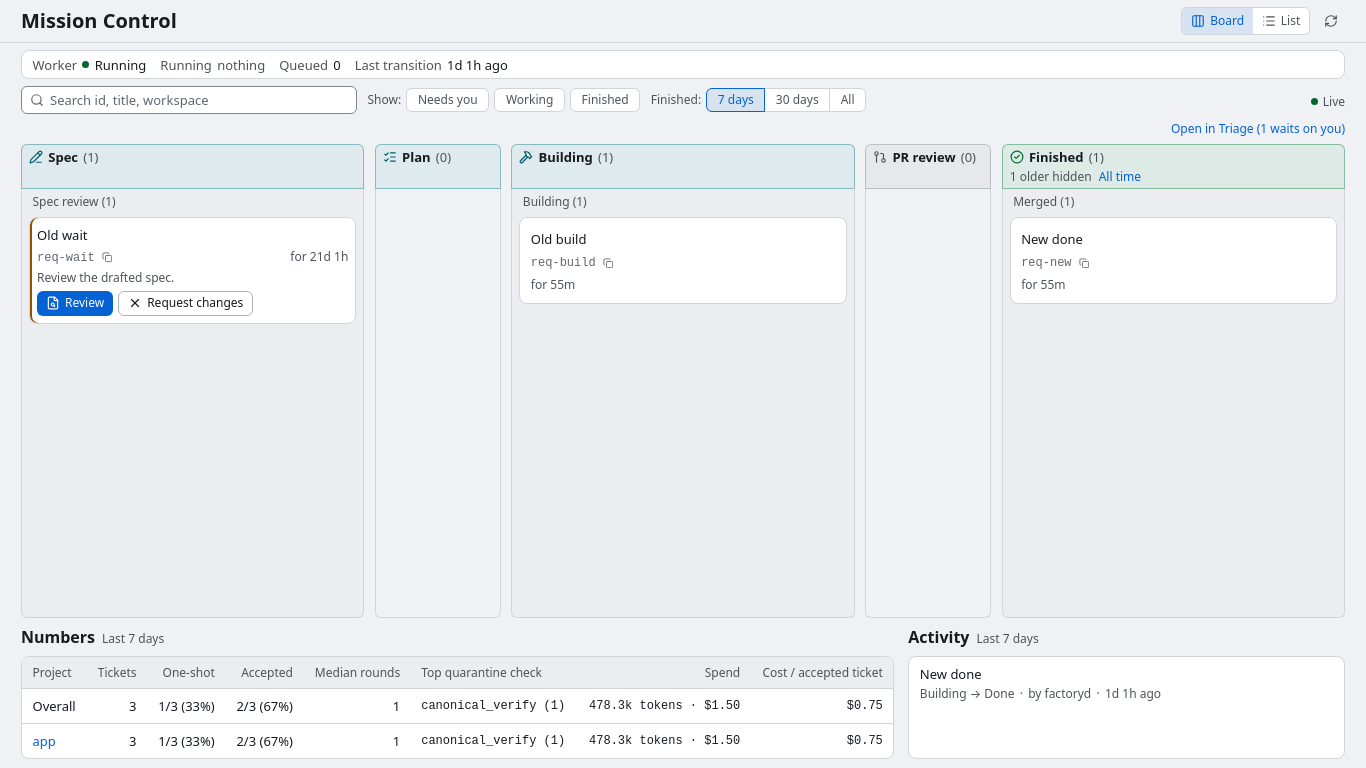
Test: the window on finished work › the hidden note's control widens the window to all time
expect the element with test id "older-hidden" is shown: met, box [1010, 168, 1141, 186]
Click the button "All time".
click(1120, 177)  # box [1099, 168, 1141, 186]
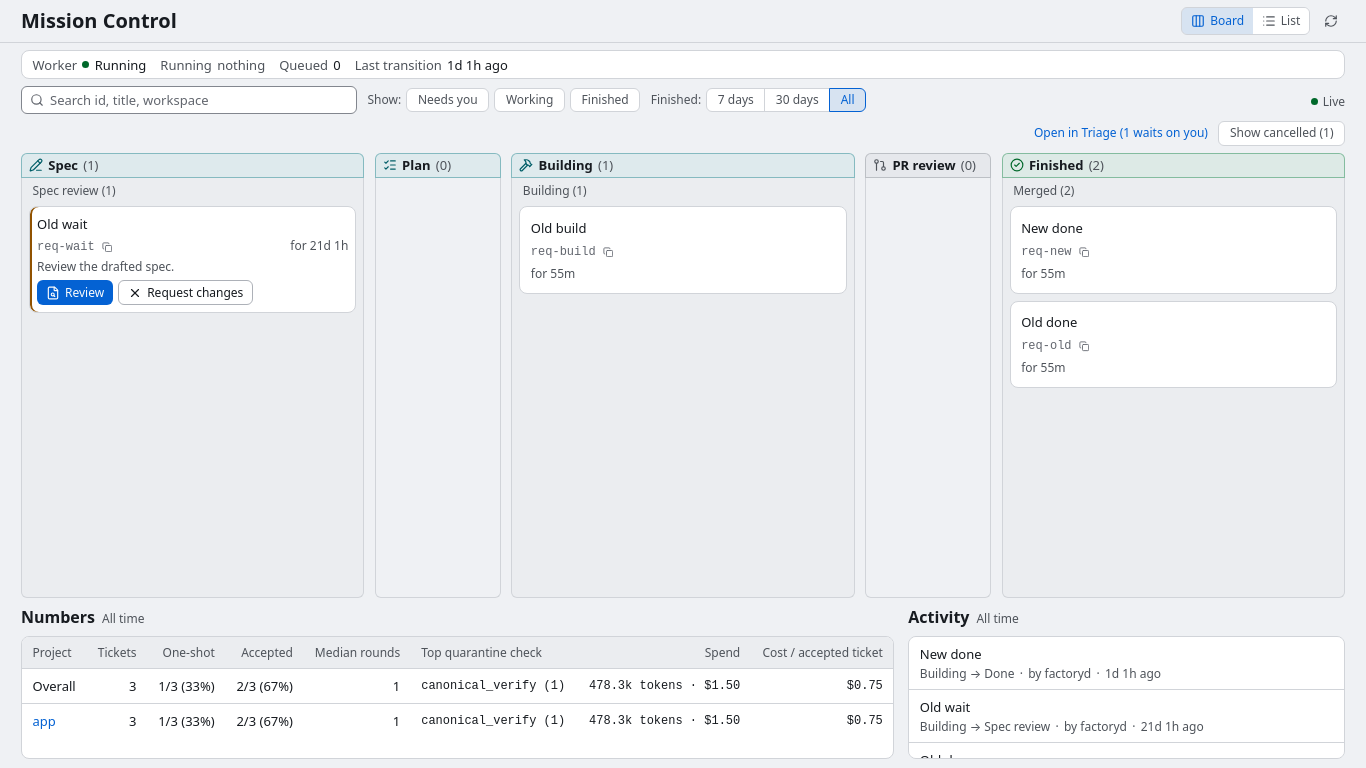
expect the list item with test id "card-req-old" is shown: met, box [1010, 300, 1337, 388]
expect the element with test id "older-hidden" is gone: met
expect the heading "Finished (2)" is shown: met, box [1010, 155, 1104, 175]
